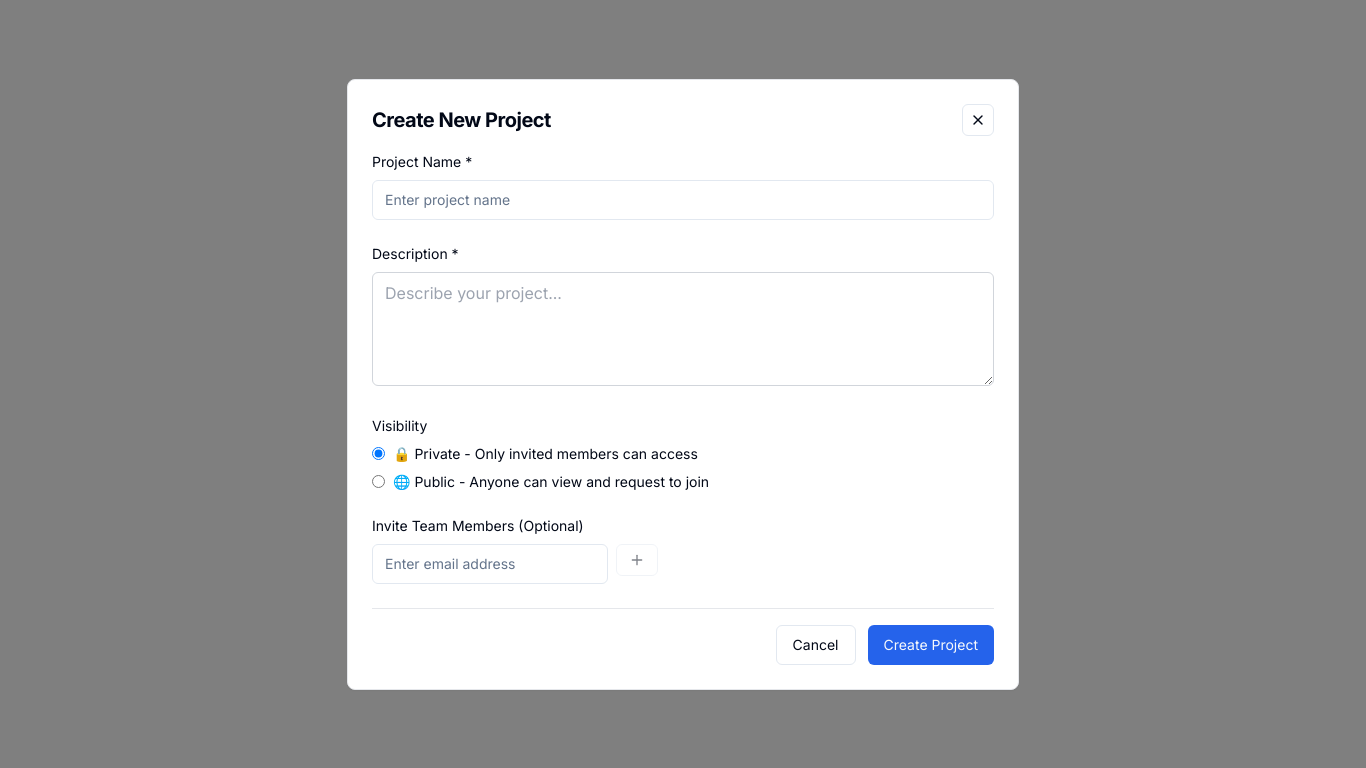
Test: CreateProjectModal › should show validation error for short project name
In the field labelled "Project Name *": [683, 200] box top-left (372, 180), bottom-right (994, 220), type "AB"
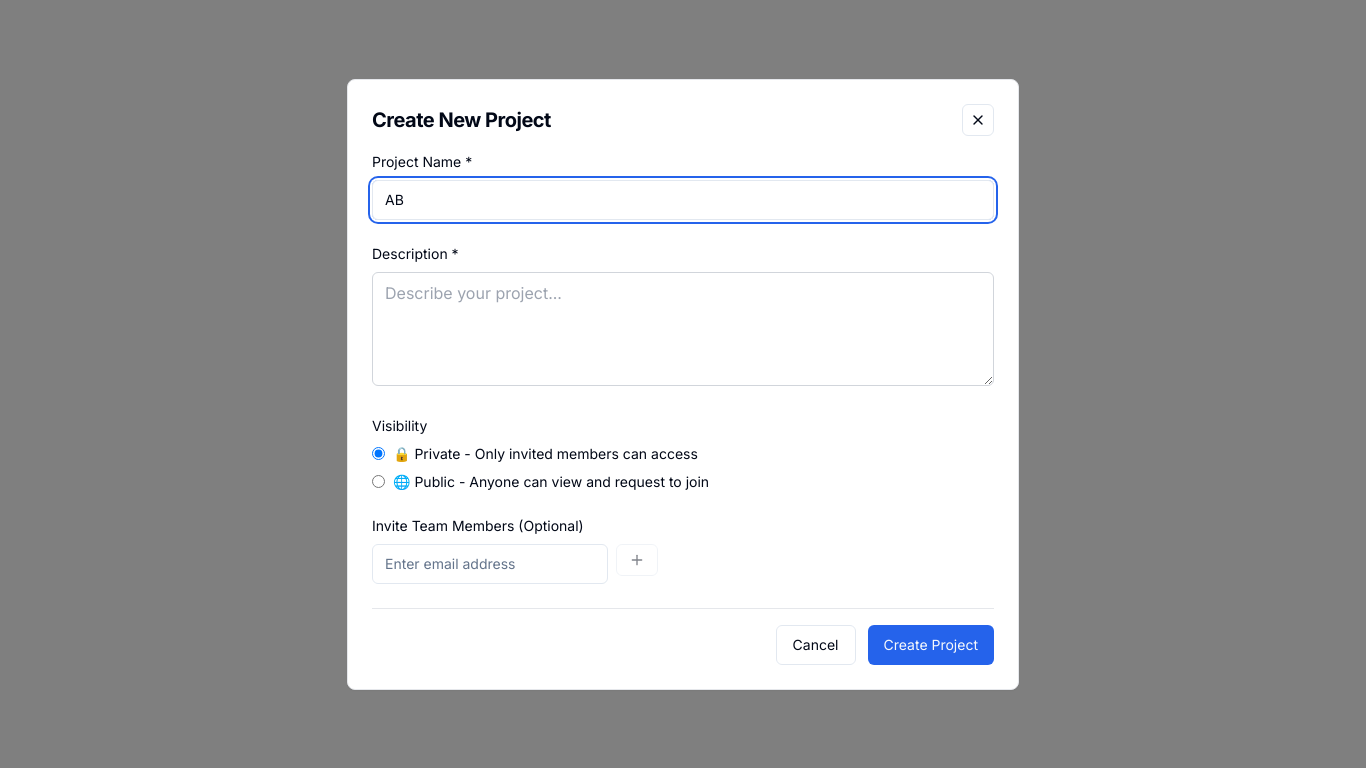
Click the button "Create Project": [931, 644] box top-left (868, 624), bottom-right (994, 664)
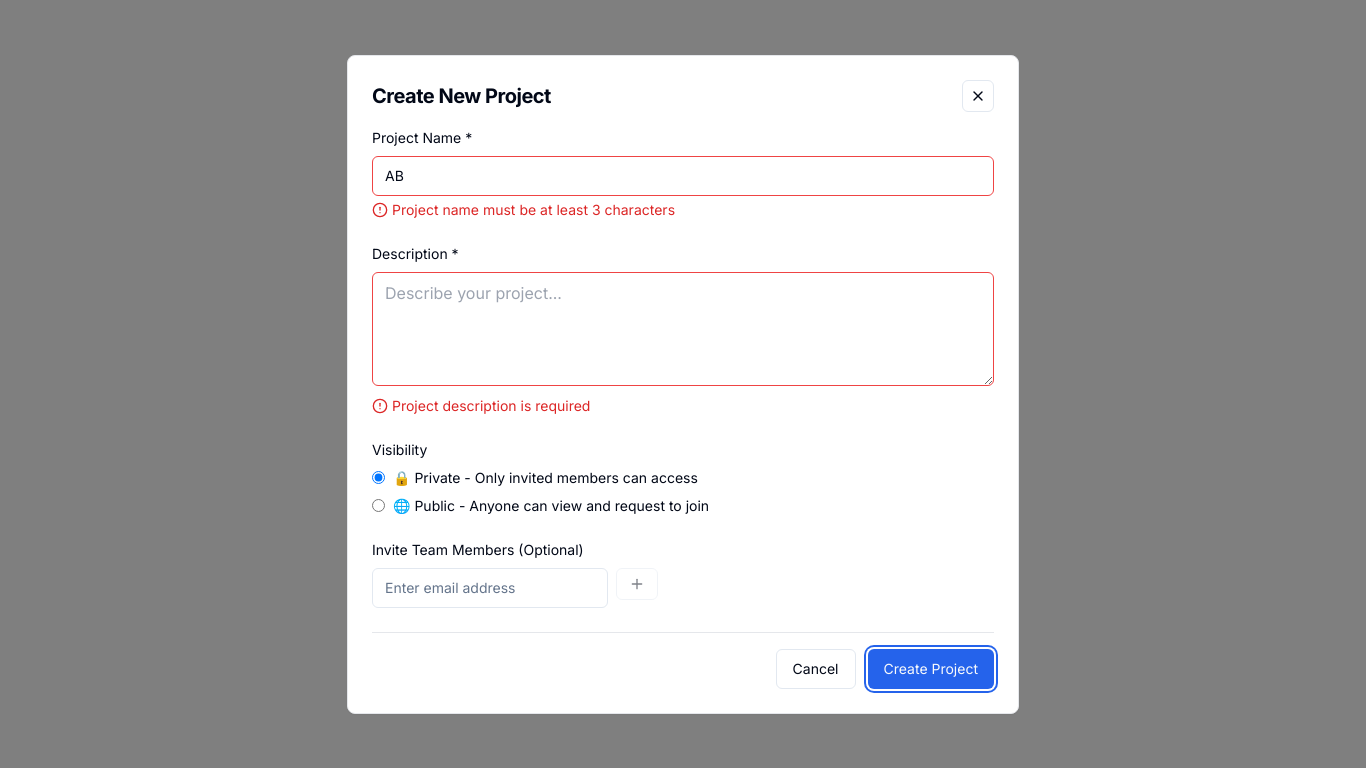
Result: the text "Project name must be at least 3 characters" is shown at top-left (392, 200), bottom-right (675, 220)
